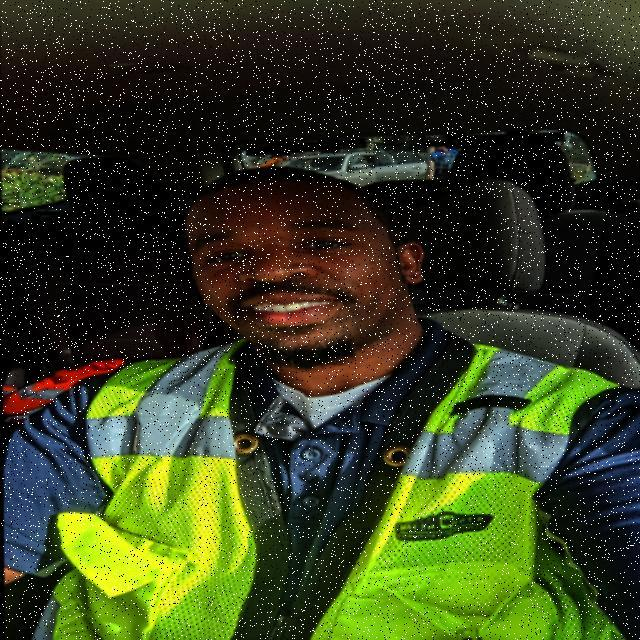noSeatbelt: (2, 338, 640, 640)
